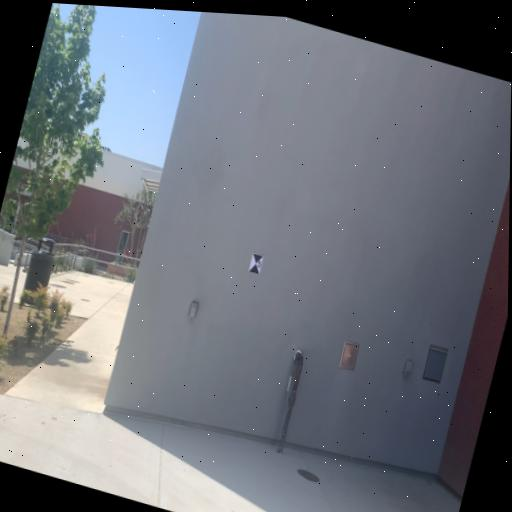target5: (249, 252, 264, 275)
